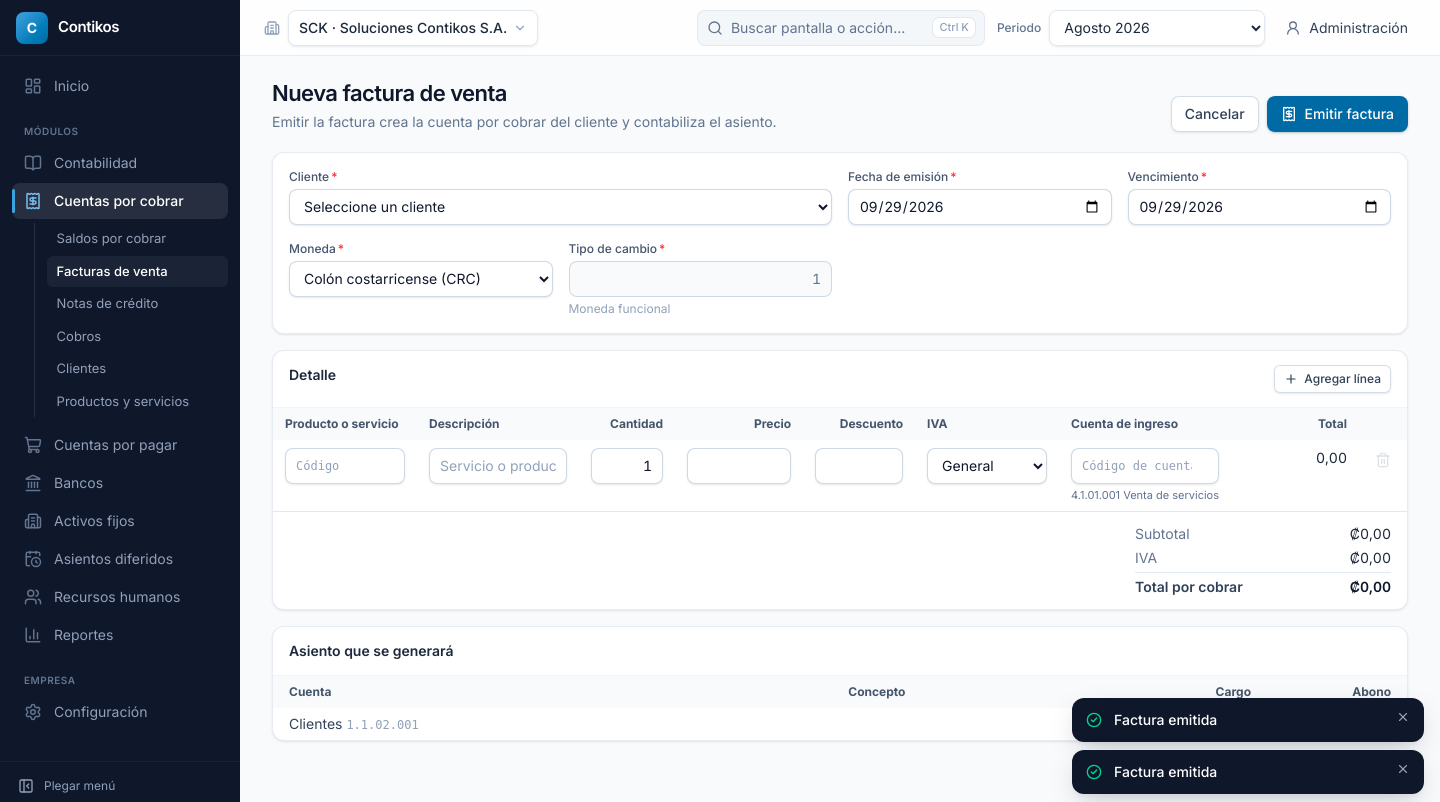
Test: Cuentas por cobrar › bloquea la factura que deja al cliente sobre su límite de crédito
Select "C-003 · Servicios Médicos Escazú S.A." in the dropdown labelled "Cliente*" at {"x": 560, "y": 206}, box [289, 188, 832, 224]
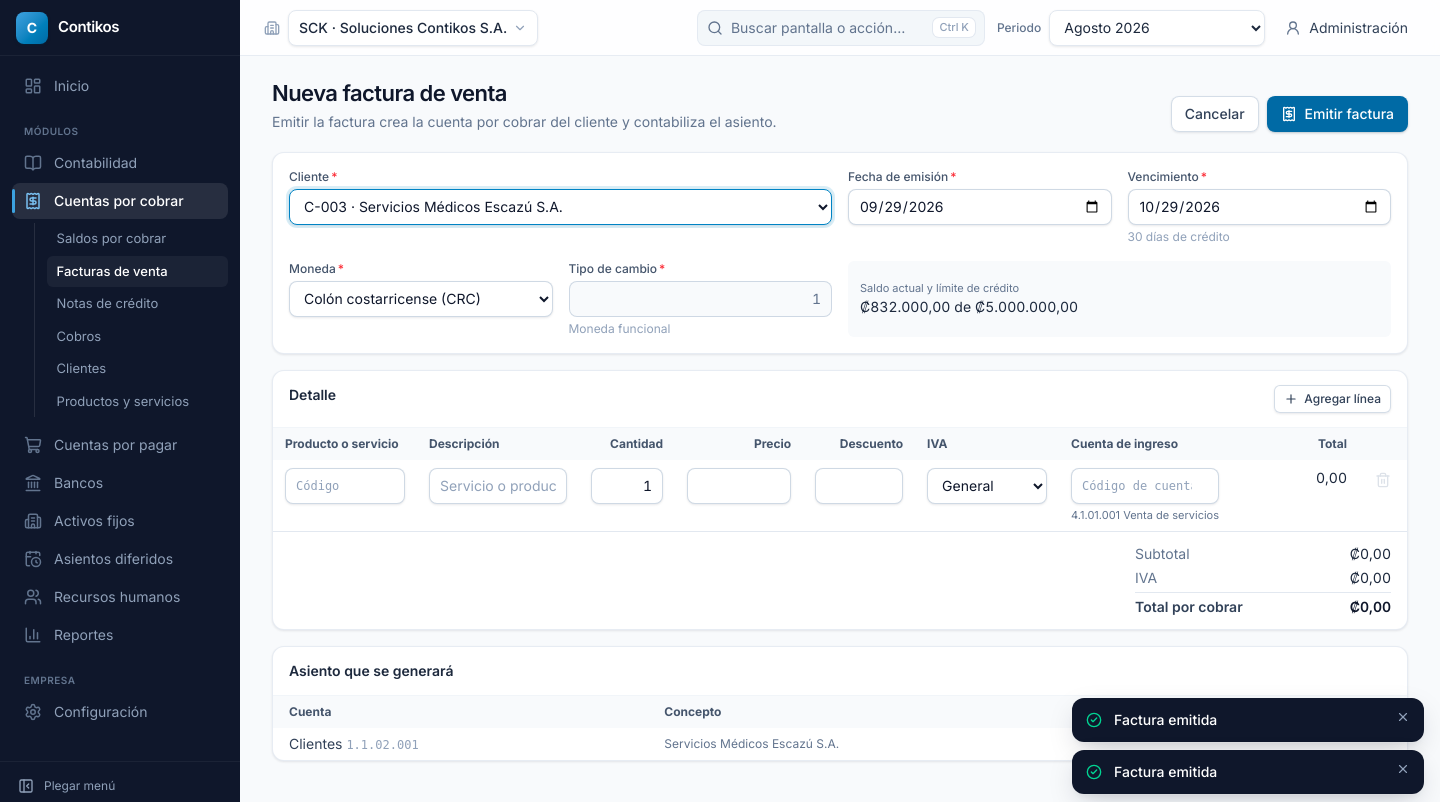
Type "2026-08-20" into the date field labelled "Fecha de emisión*" at {"x": 980, "y": 206}, box [848, 188, 1112, 224]
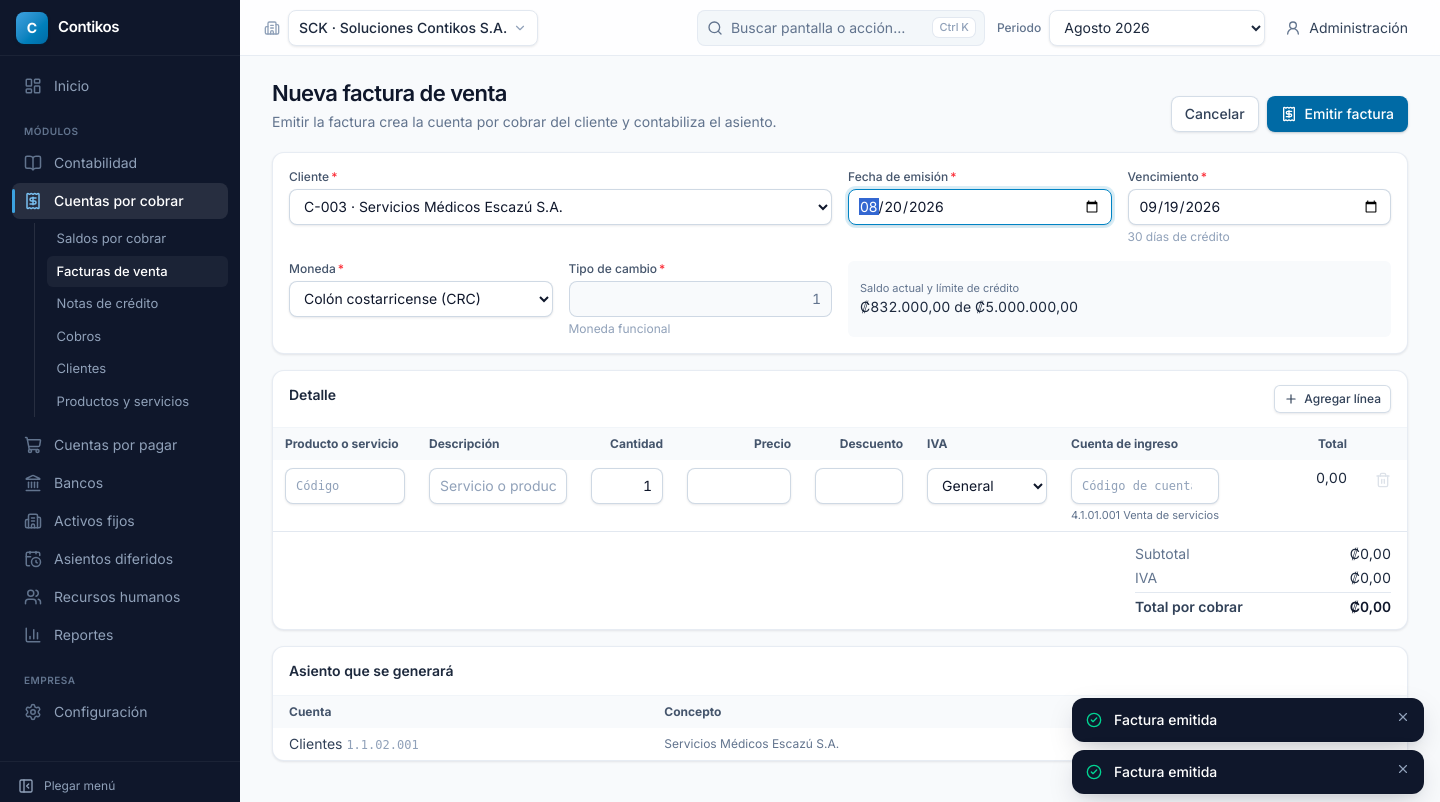
Type "Servicio grande" into the field named "Descripción de la línea 1" at {"x": 498, "y": 486}, box [429, 468, 567, 504]
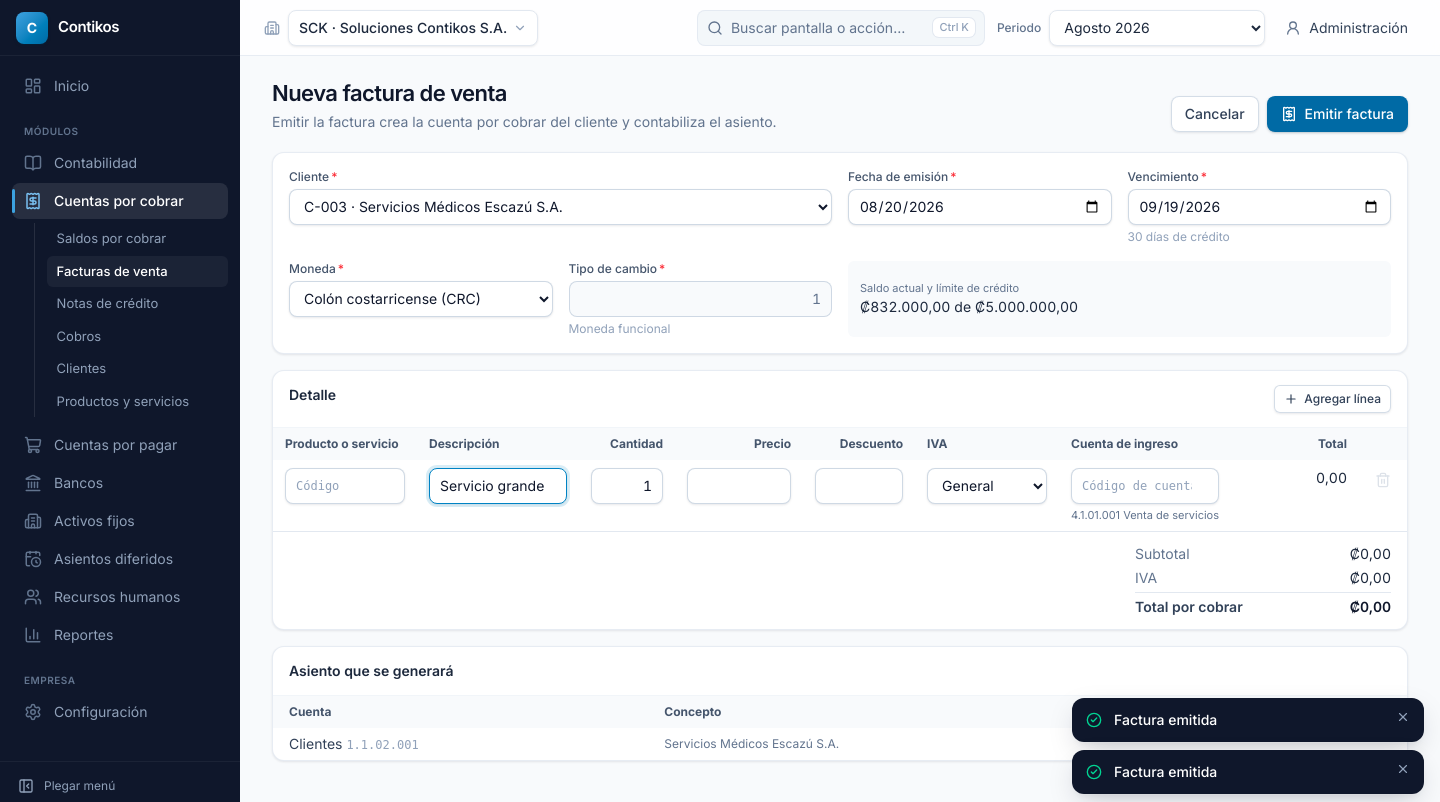
Type "5000000" into the field named "Precio unitario de la línea 1" at {"x": 739, "y": 486}, box [687, 468, 791, 504]
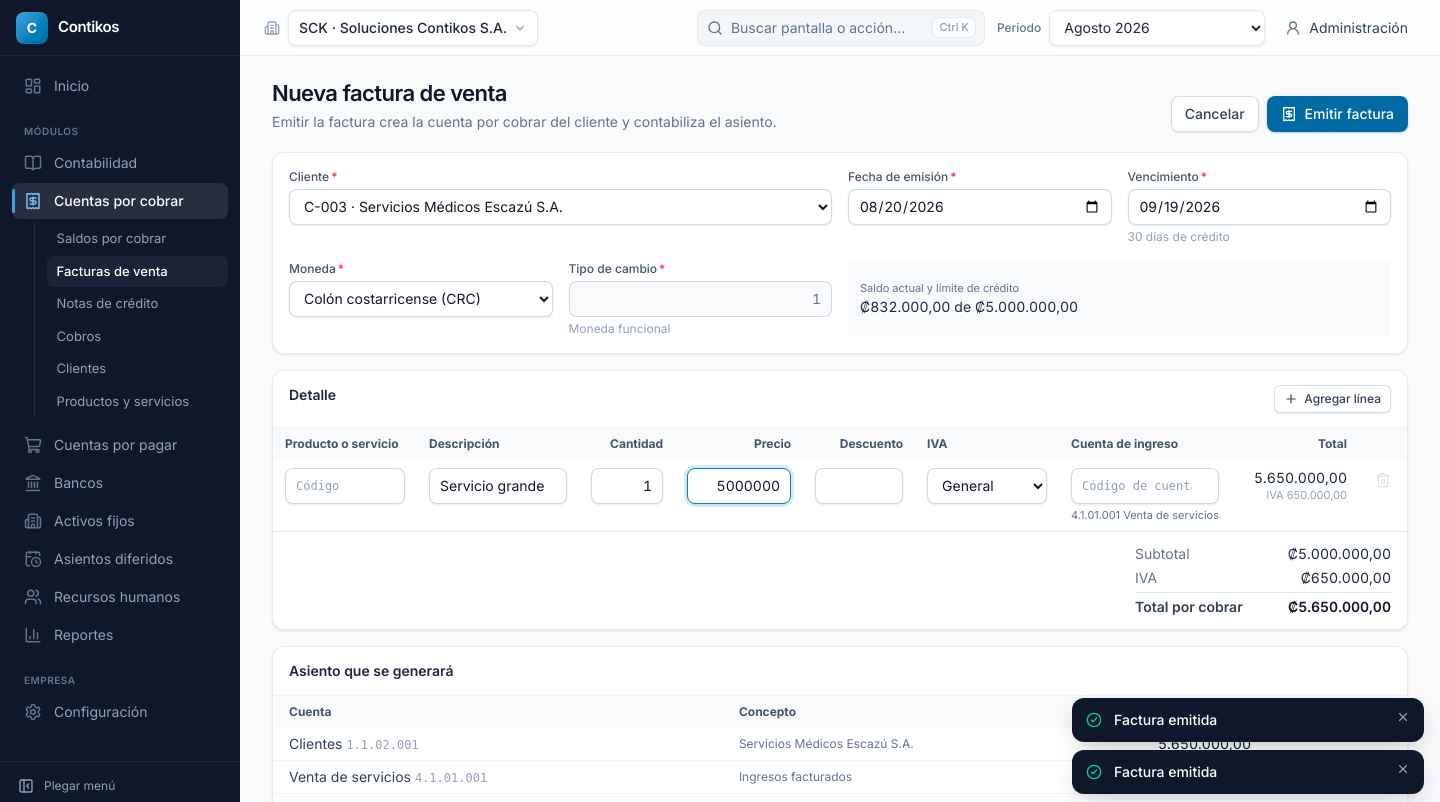
Press Tab
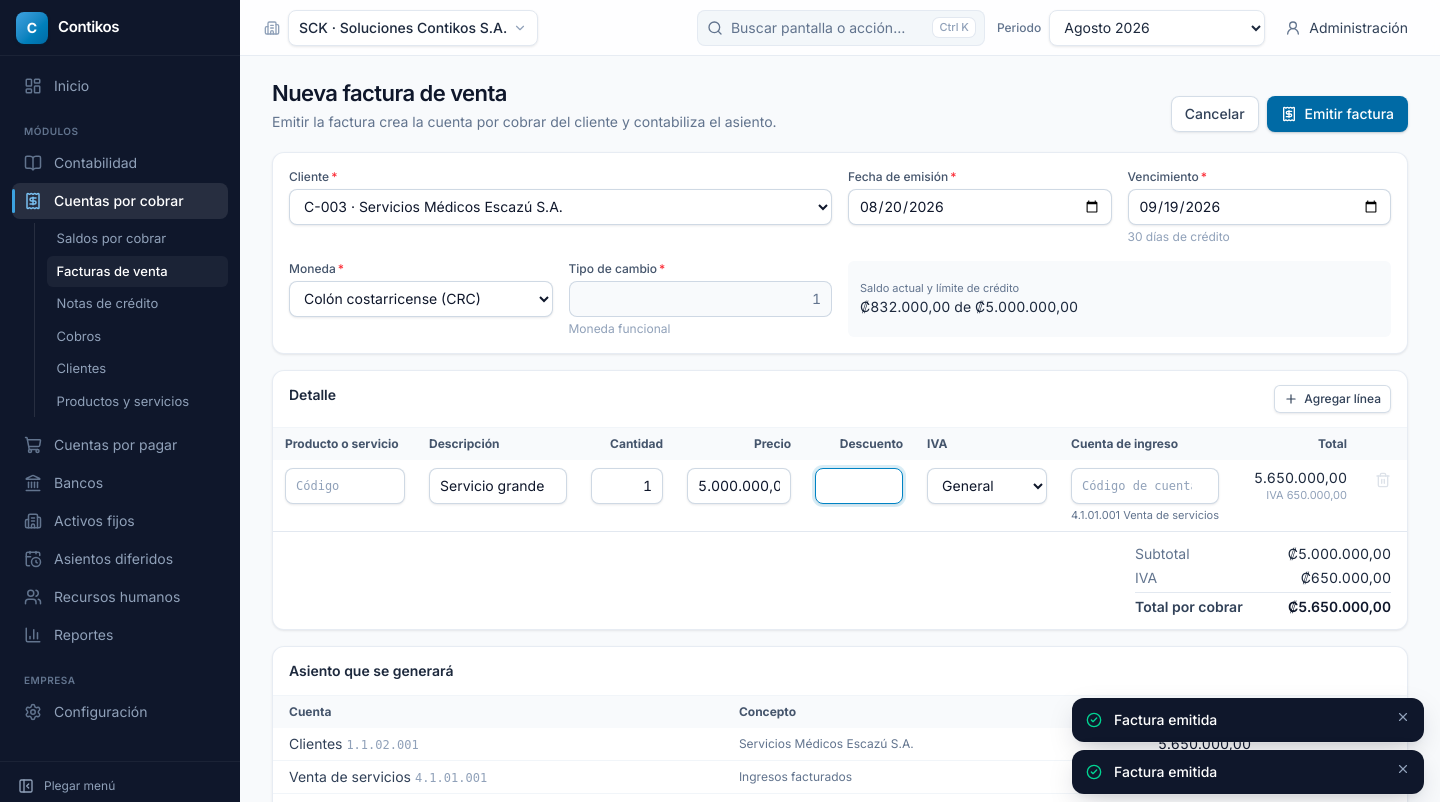
Click the button "Emitir factura" at {"x": 1337, "y": 114}, box [1267, 96, 1408, 132]
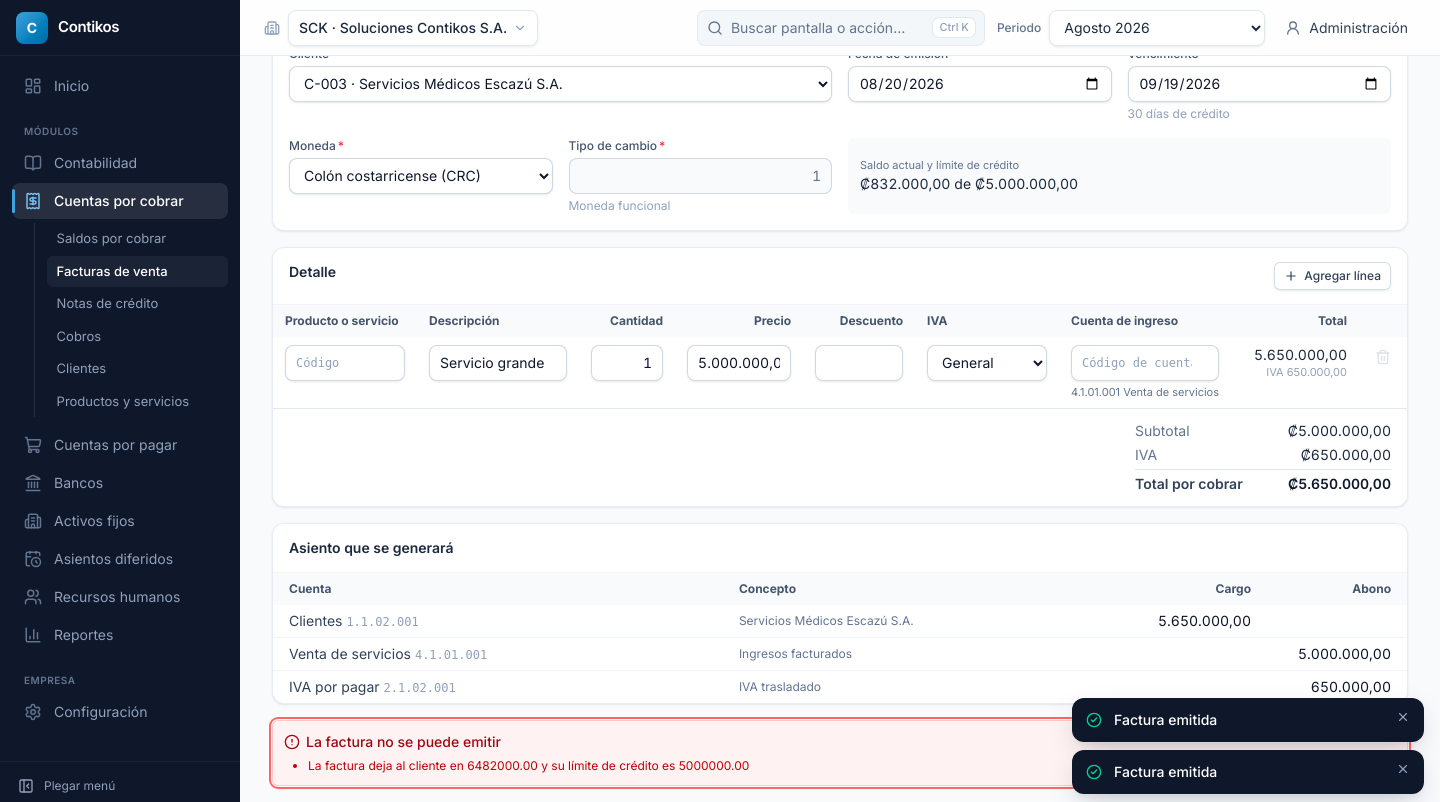
Check: the list item "su límite de crédito es" is shown, box [308, 758, 749, 773]
